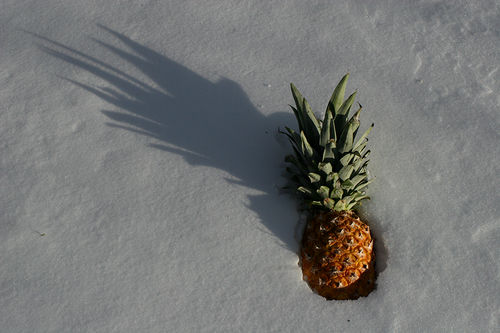pineapple: (276, 72, 379, 298)
